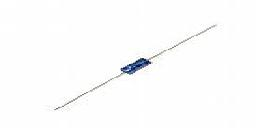Electrolytic-capacitor: (52, 20, 226, 125), (103, 48, 165, 82)
